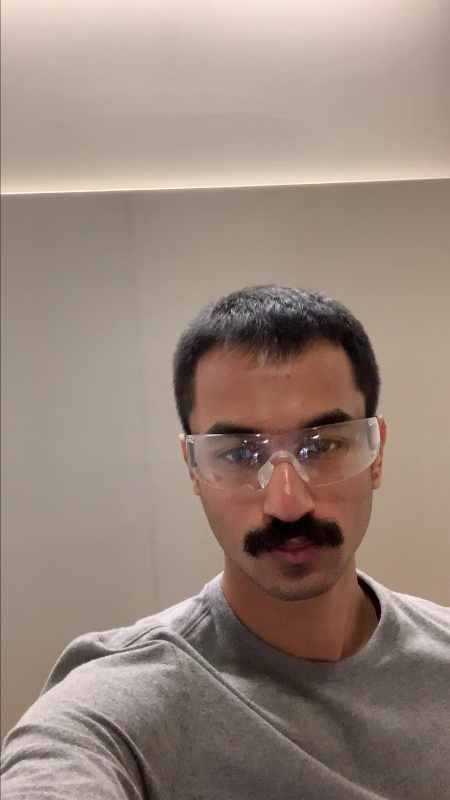glasses: (178, 419, 388, 483)
